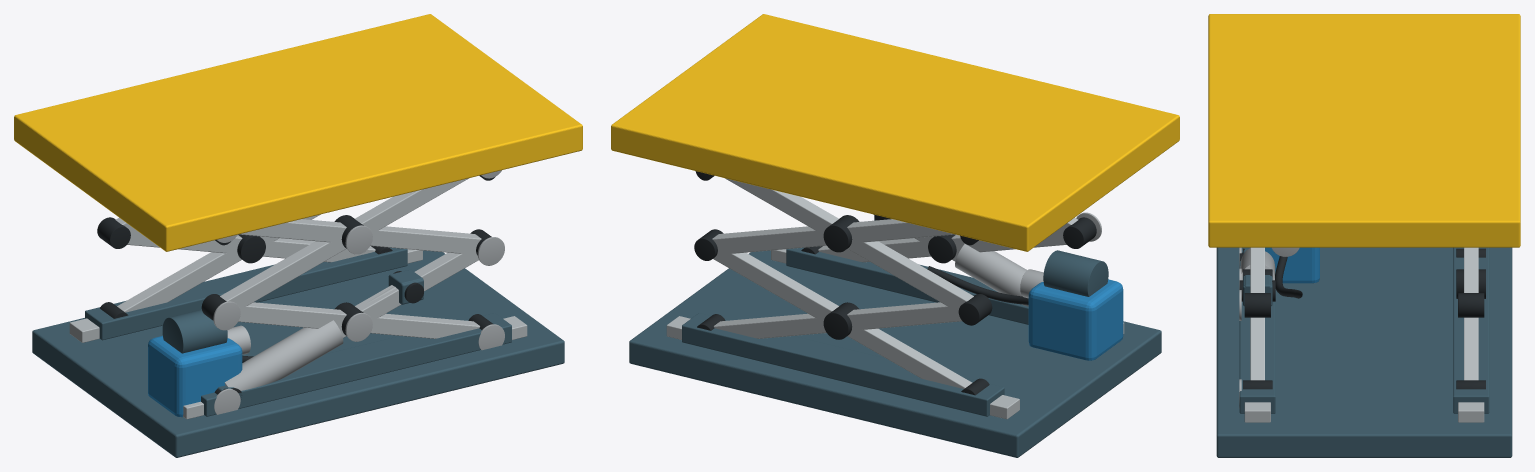
The model's file is lift_limit_switches.glb.
The picture shows the model from 3 angles, left to right: view 1: azimuth 30°, elevation 25°; view 2: azimuth 150°, elevation 25°; view 3: azimuth 270°, elevation 25°; orthographic projection. The views are drawn at different scales.
Visible parts, largest first — view 1: KIN_platform, LIFT_base, LIFT_base_mount_rail_-0.65, LIFT_base_mount_rail_0.65, HYDRAULIC_power_unit, KIN_scissor_1_-0.65_-1, KIN_scissor_0_-0.65_1, KIN_scissor_1_-0.65_1, LIFT_cylinder, KIN_scissor_0_0.65_-1, KIN_scissor_0_-0.65_-1, HYDRAULIC_powerpack_motor (+9 smaller); view 2: KIN_platform, LIFT_base, LIFT_base_mount_rail_0.65, HYDRAULIC_power_unit, KIN_scissor_0_0.65_-1, KIN_scissor_1_0.65_-1, KIN_scissor_0_0.65_1, KIN_scissor_1_0.65_1, LIFT_base_mount_rail_-0.65, HYDRAULIC_powerpack_motor, LIFT_cylinder, KIN_scissor_0_-0.65_1 (+8 smaller); view 3: KIN_platform, LIFT_base, LIFT_base_mount_rail_0.65, LIFT_base_mount_rail_-0.65, HYDRAULIC_power_unit, KIN_scissor_0_0.65_1, KIN_scissor_0_-0.65_1, KIN_scissor_1_0.65_1, KIN_scissor_1_-0.65_1, KIN_mid_pivot_0.95_0.65, KIN_mid_pivot_0.95_-0.65, LIFT_lower_track_0.65 (+4 smaller).
Part boxes in pixels (x1=…): KIN_platform: x1=14, y1=14, x2=582, y2=251; LIFT_base: x1=32, y1=250, x2=564, y2=457; LIFT_base_mount_rail_-0.65: x1=201, y1=313, x2=511, y2=416; LIFT_base_mount_rail_0.65: x1=85, y1=247, x2=407, y2=340; HYDRAULIC_power_unit: x1=148, y1=336, x2=242, y2=416; KIN_scissor_1_-0.65_-1: x1=220, y1=178, x2=468, y2=308; KIN_scissor_0_-0.65_1: x1=238, y1=302, x2=479, y2=338; KIN_scissor_1_-0.65_1: x1=238, y1=219, x2=481, y2=254; LIFT_cylinder: x1=224, y1=320, x2=343, y2=390; KIN_scissor_0_0.65_-1: x1=117, y1=214, x2=320, y2=312; KIN_scissor_0_-0.65_-1: x1=338, y1=246, x2=478, y2=337; HYDRAULIC_powerpack_motor: x1=162, y1=309, x2=227, y2=353; KIN_platform: x1=611, y1=14, x2=1179, y2=251; LIFT_base: x1=629, y1=250, x2=1161, y2=457; LIFT_base_mount_rail_0.65: x1=682, y1=313, x2=1004, y2=416; HYDRAULIC_power_unit: x1=1028, y1=279, x2=1123, y2=360; KIN_scissor_0_0.65_-1: x1=713, y1=246, x2=972, y2=388; KIN_scissor_1_0.65_-1: x1=725, y1=178, x2=973, y2=311; KIN_scissor_0_0.65_1: x1=714, y1=302, x2=961, y2=338; KIN_scissor_1_0.65_1: x1=712, y1=219, x2=955, y2=253; LIFT_base_mount_rail_-0.65: x1=786, y1=247, x2=1028, y2=324; HYDRAULIC_powerpack_motor: x1=1043, y1=250, x2=1108, y2=296; LIFT_cylinder: x1=955, y1=244, x2=1028, y2=306; KIN_scissor_0_-0.65_1: x1=818, y1=230, x2=1066, y2=262; KIN_platform: x1=1208, y1=14, x2=1520, y2=247; LIFT_base: x1=1216, y1=247, x2=1512, y2=457; LIFT_base_mount_rail_0.65: x1=1453, y1=247, x2=1489, y2=413; LIFT_base_mount_rail_-0.65: x1=1239, y1=247, x2=1275, y2=413; HYDRAULIC_power_unit: x1=1265, y1=247, x2=1319, y2=283; KIN_scissor_0_0.65_1: x1=1464, y1=317, x2=1478, y2=380; KIN_scissor_0_-0.65_1: x1=1250, y1=317, x2=1264, y2=380; KIN_scissor_1_0.65_1: x1=1464, y1=247, x2=1478, y2=292; KIN_scissor_1_-0.65_1: x1=1250, y1=247, x2=1264, y2=292; KIN_mid_pivot_0.95_0.65: x1=1458, y1=293, x2=1484, y2=317; KIN_mid_pivot_0.95_-0.65: x1=1244, y1=293, x2=1270, y2=317; LIFT_lower_track_0.65: x1=1458, y1=402, x2=1484, y2=422.
Size of the model in its own units: 3 by 1.64 by 1.9.
